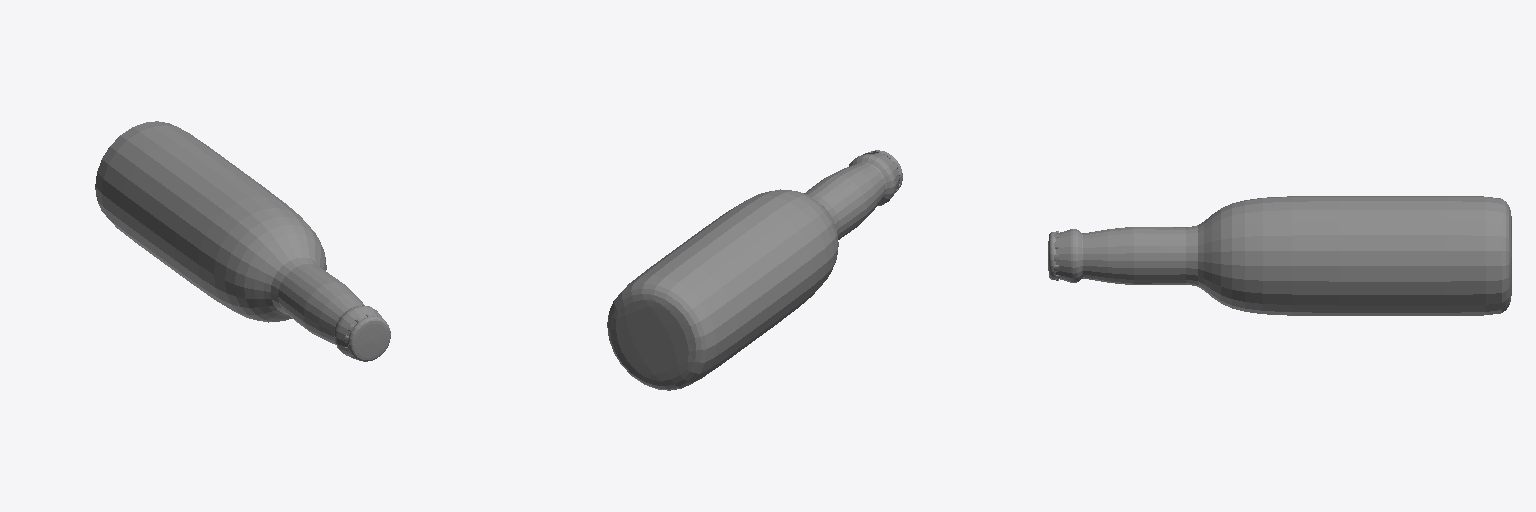
Rendered from Corona2.obj.
3 views of the same model, side by side, from view 1: azimuth 30°, elevation 25°; view 2: azimuth 150°, elevation 25°; view 3: azimuth 270°, elevation 25° (orthographic).
Parts seen in each view (by area): view 1: Corona; view 2: Corona; view 3: Corona.
Part boxes in pixels (x1,y1,x2,y2): Corona: (95, 121, 390, 361); Corona: (607, 150, 902, 390); Corona: (1048, 196, 1511, 315).
Bounding box in the file's own units: 10.56 × 10.56 × 40.54.